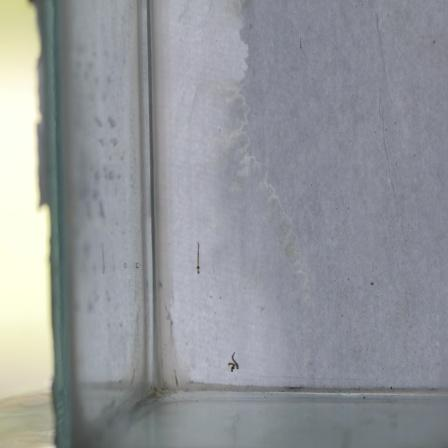Jentik-Nyamuk: (223, 343, 246, 378), (192, 237, 205, 277)
